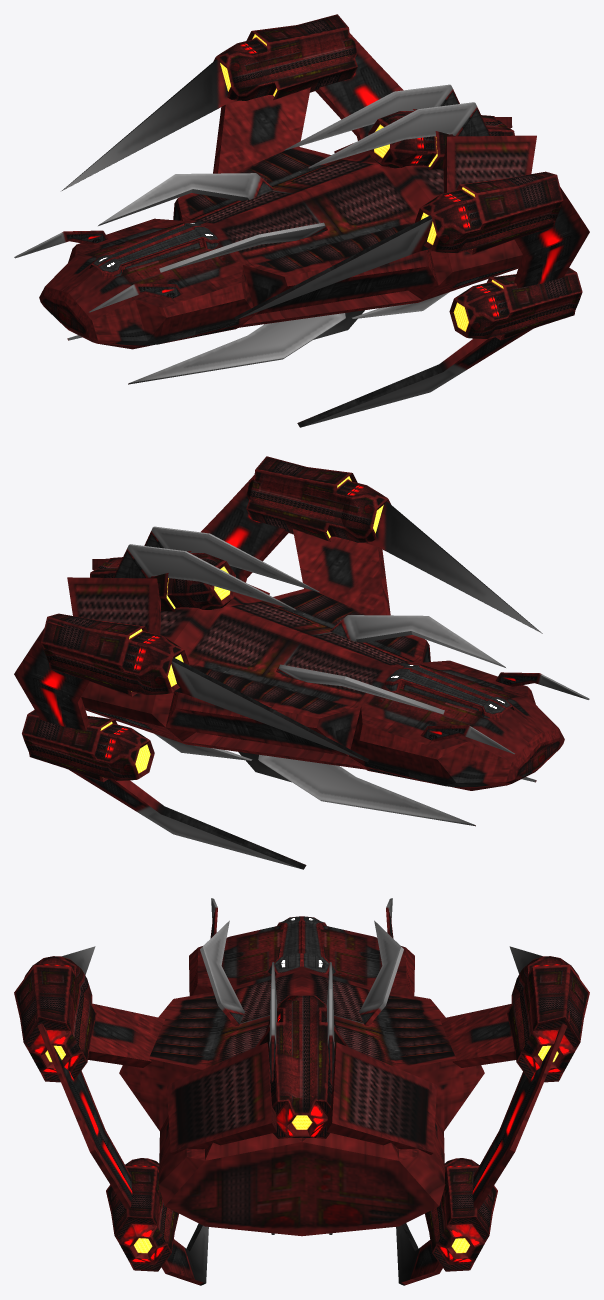
The model's file is pirateHeavyCruiser.FBX.
The picture shows the model from 3 angles, top to bottom: view 1: azimuth 30°, elevation 25°; view 2: azimuth 150°, elevation 25°; view 3: azimuth 270°, elevation 25°; orthographic projection. The views are drawn at different scales.
Visible parts, largest first — view 1: Pirate_HeavyCruiser; view 2: Pirate_HeavyCruiser; view 3: Pirate_HeavyCruiser.
Boxes of the visible parts, <box> form: Pirate_HeavyCruiser: <box>14,14,589,427</box>; Pirate_HeavyCruiser: <box>14,456,589,869</box>; Pirate_HeavyCruiser: <box>14,898,589,1285</box>.
Bounding box in the file's own units: 35.46 × 18.67 × 31.19.
Materials: 1 (1 with a texture image).
